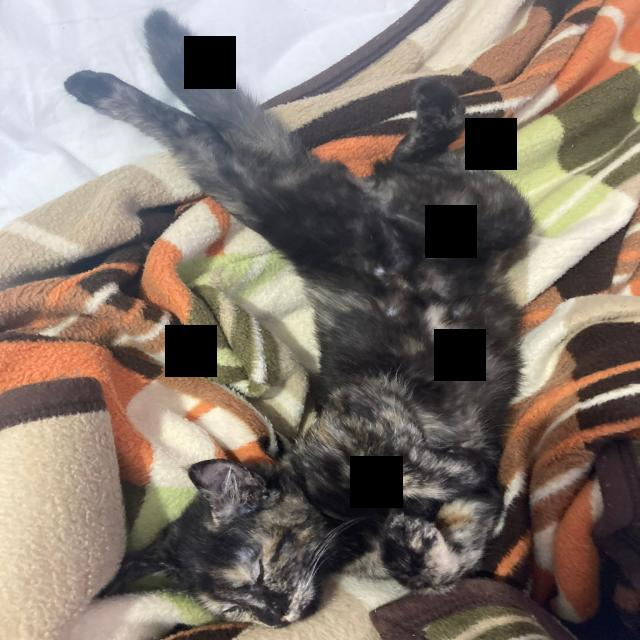authorized: (62, 7, 536, 597), (94, 457, 363, 629)
